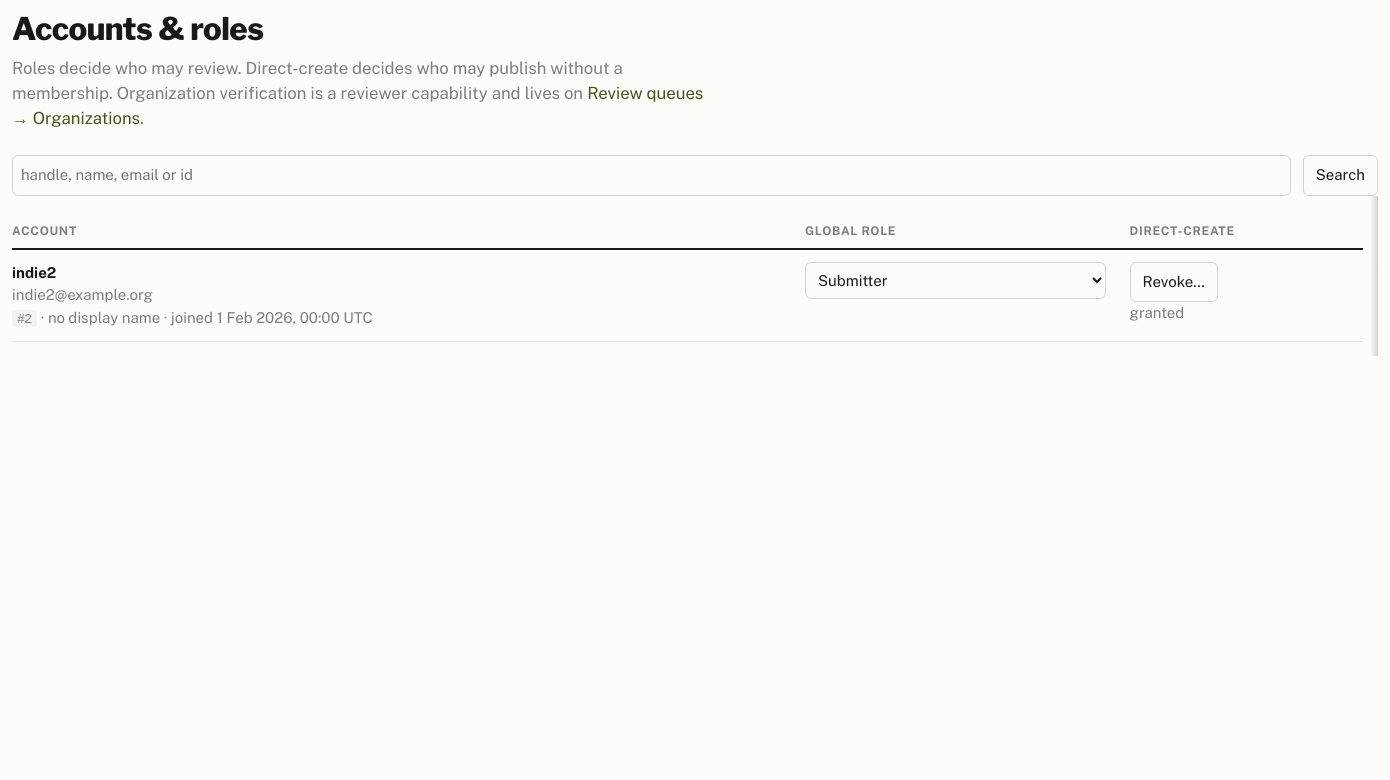
it: direct create › says revoking leaves already-published listings alone
Click the button "Revoke…". click: (1174, 282)
box: [1130, 262, 1218, 302]
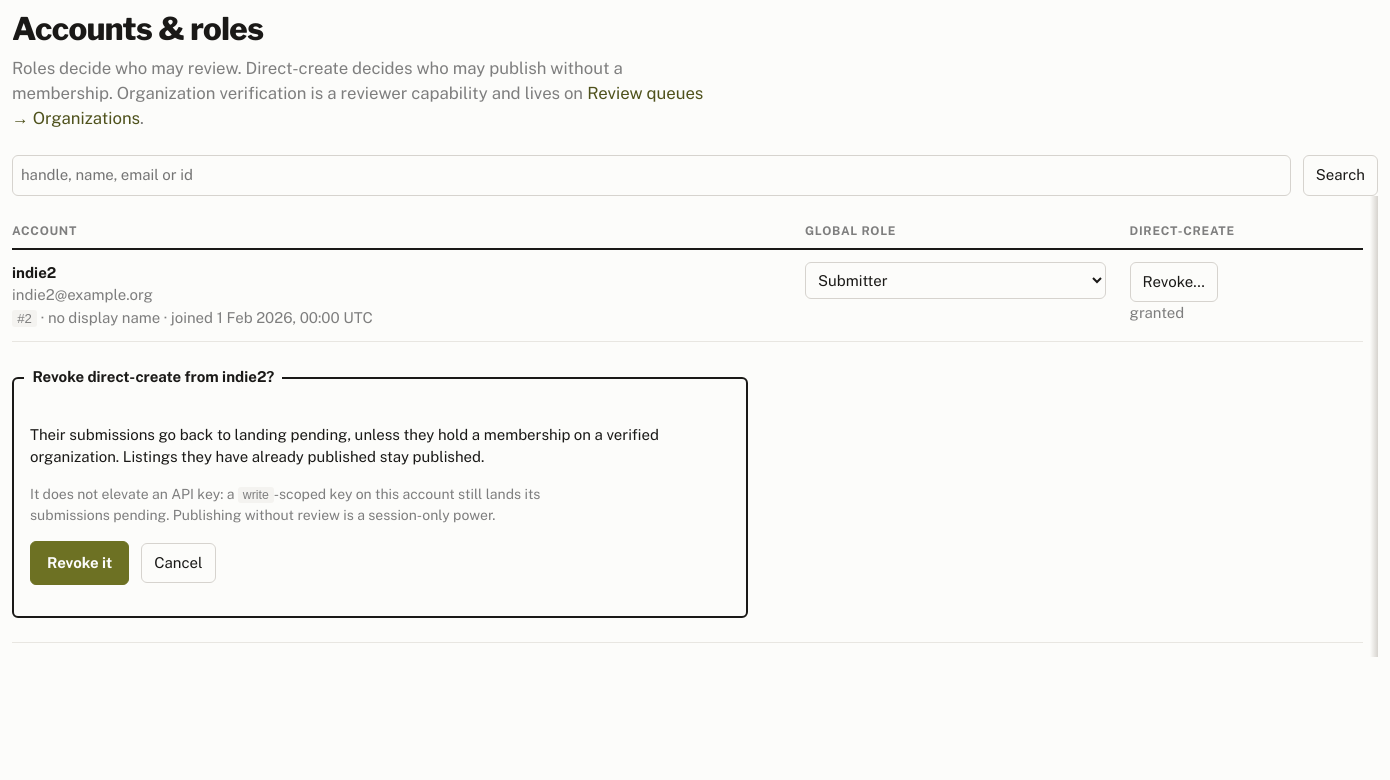
Check: the text "already published stay published" is shown, box [30, 426, 659, 465]
